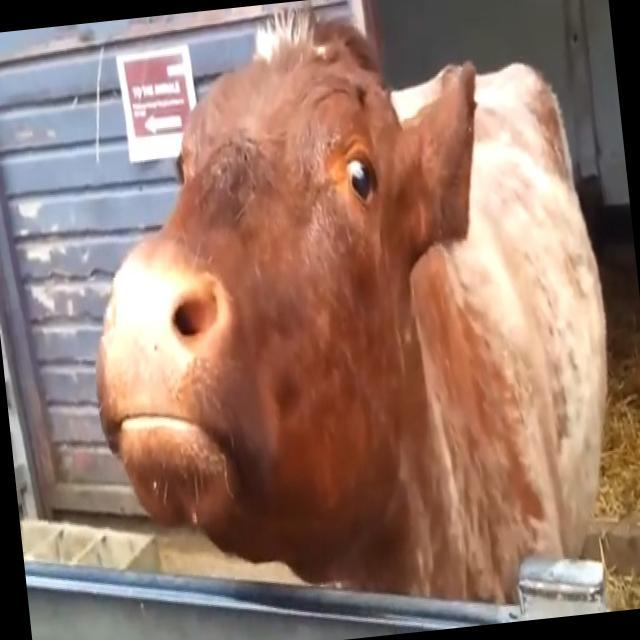COW: (97, 23, 606, 600)
